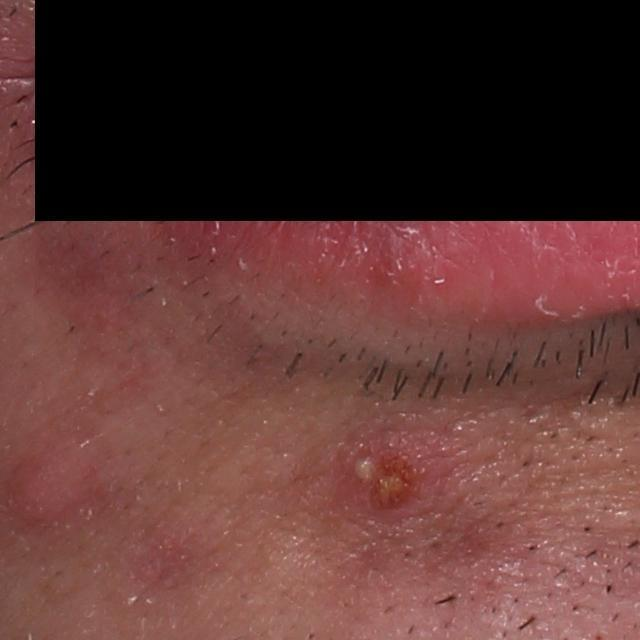pustule: (338, 423, 429, 512)
